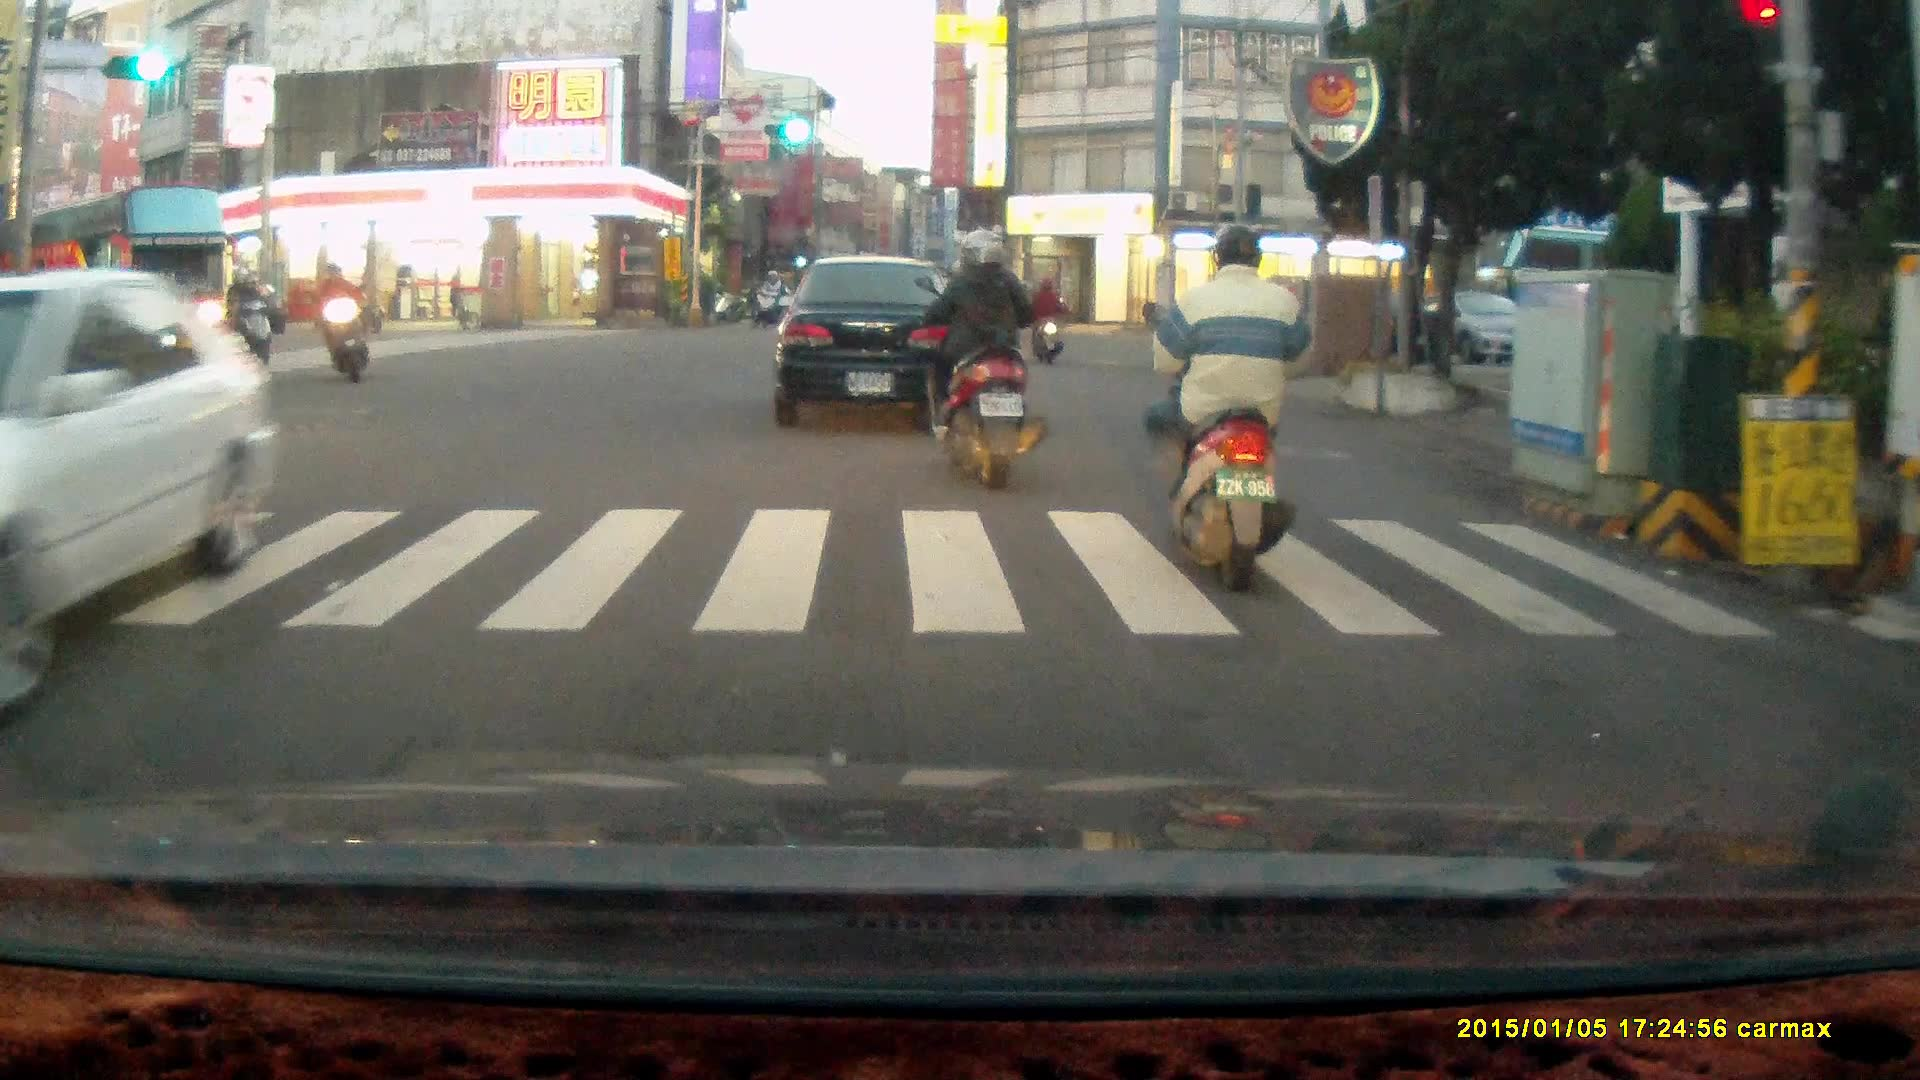rider: (1139, 223, 1297, 592), (914, 227, 1052, 495), (316, 261, 370, 385), (219, 267, 275, 379), (1023, 276, 1067, 368), (753, 269, 784, 328)
vehicle: (1, 268, 286, 701), (9, 187, 233, 354), (1376, 284, 1563, 372)
